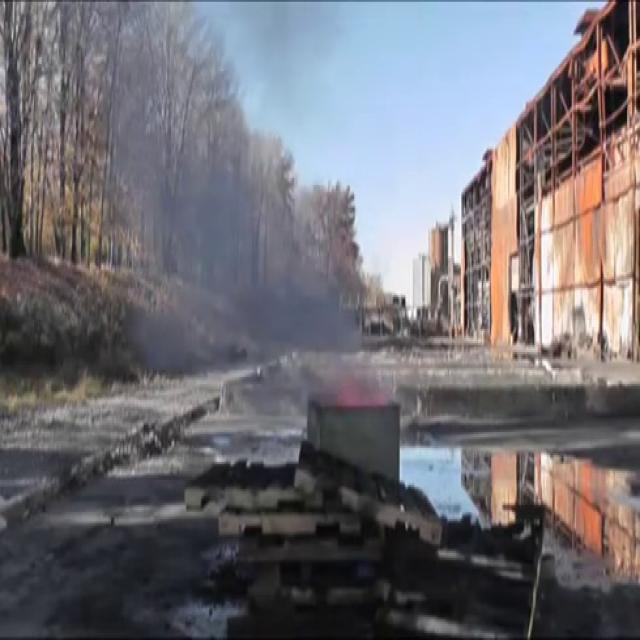Smoke: (107, 21, 375, 439)
